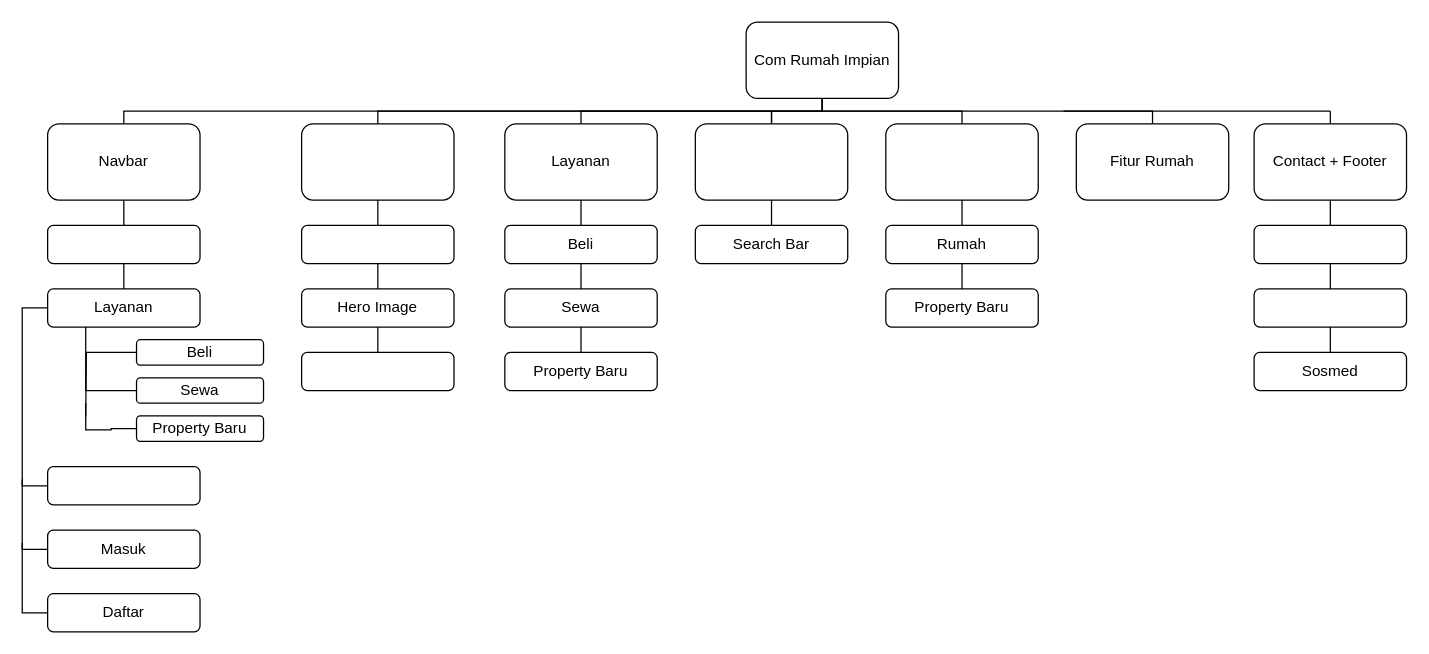
Some shapes in this 1429 by 654 pixel diagram are drawn without their labels. Each missing label, with the centre of its shape:
"Alamat" goes at point (1330, 307).
"CTA" goes at point (377, 371).
"Form" goes at point (1330, 244).
"Hero Section" goes at point (377, 161).
"Kontak" goes at point (123, 485).
"Logo" goes at point (123, 244).
"Rekomendasi Rumah Impian" goes at point (961, 161).
"Tagline" goes at point (377, 244).
"Temukan Rumah Impian" goes at point (771, 161).
